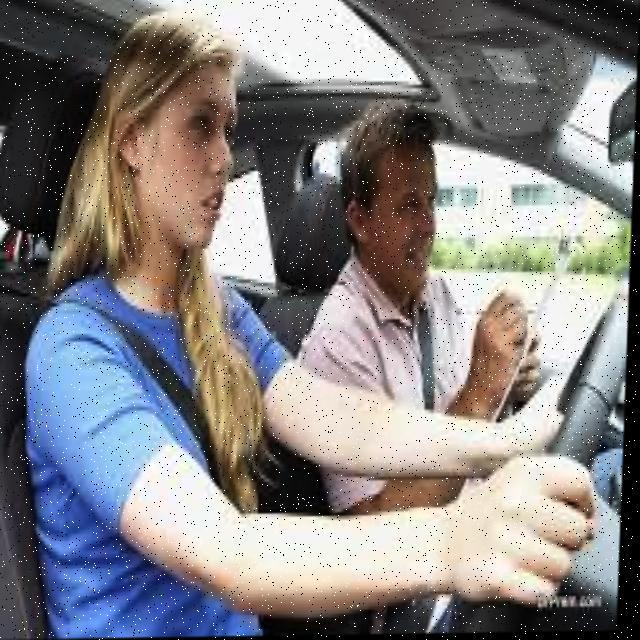seatbelt: (26, 290, 269, 531), (340, 266, 479, 428)
